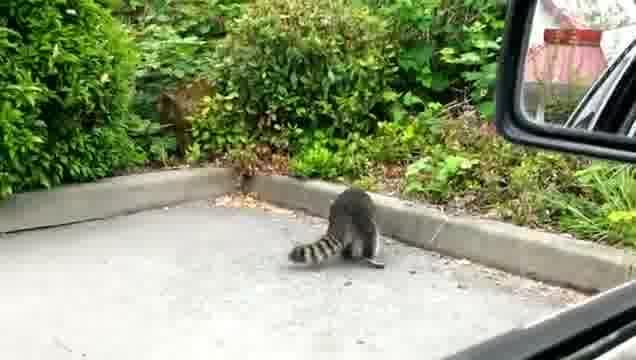raccoon: (286, 185, 385, 277)
